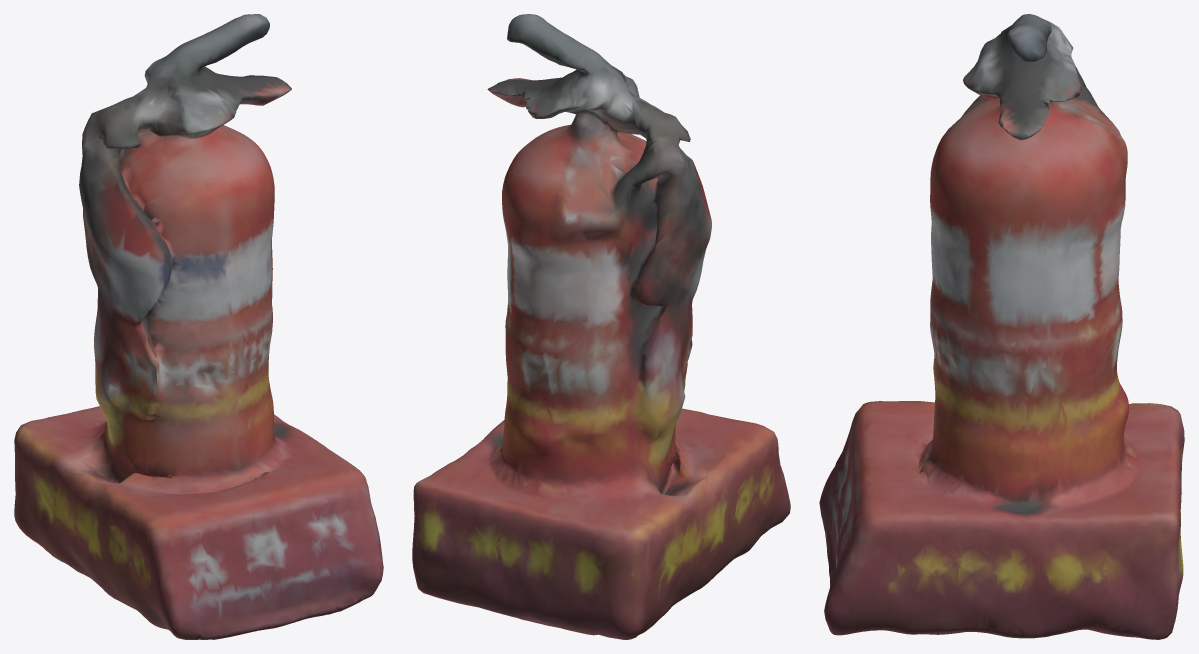
3 views of the same model, side by side, from view 1: azimuth 30°, elevation 25°; view 2: azimuth 150°, elevation 25°; view 3: azimuth 270°, elevation 25° (orthographic). The views are drawn at different scales.
Visible parts, largest first — view 1: geometry_0; view 2: geometry_0; view 3: geometry_0.
Boxes of the visible parts, bbox=[...] form: geometry_0: bbox=[14, 14, 383, 639]; geometry_0: bbox=[412, 14, 790, 639]; geometry_0: bbox=[819, 14, 1184, 639].
Bounding box in the file's own units: 0.8553 × 2 × 1.07.
